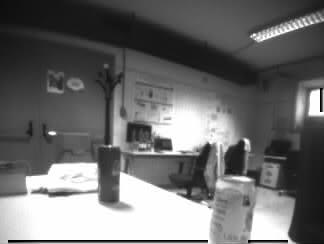Tin can: (211, 174, 255, 244), (98, 144, 120, 202)
